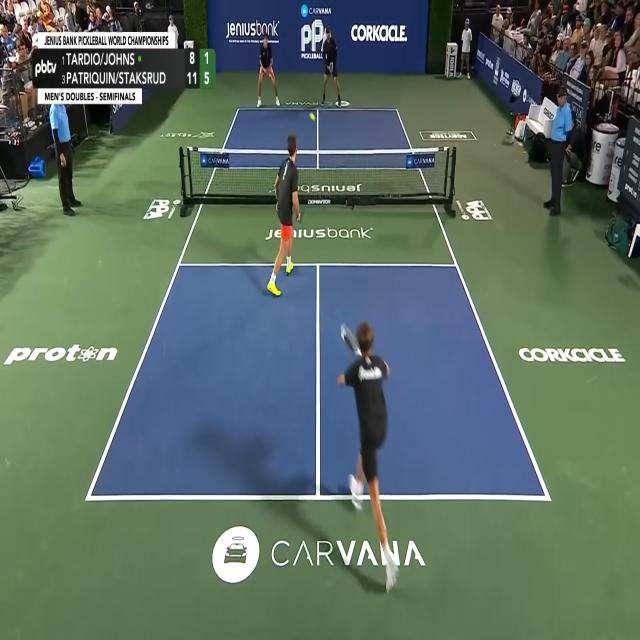ball: (309, 112, 315, 122)
